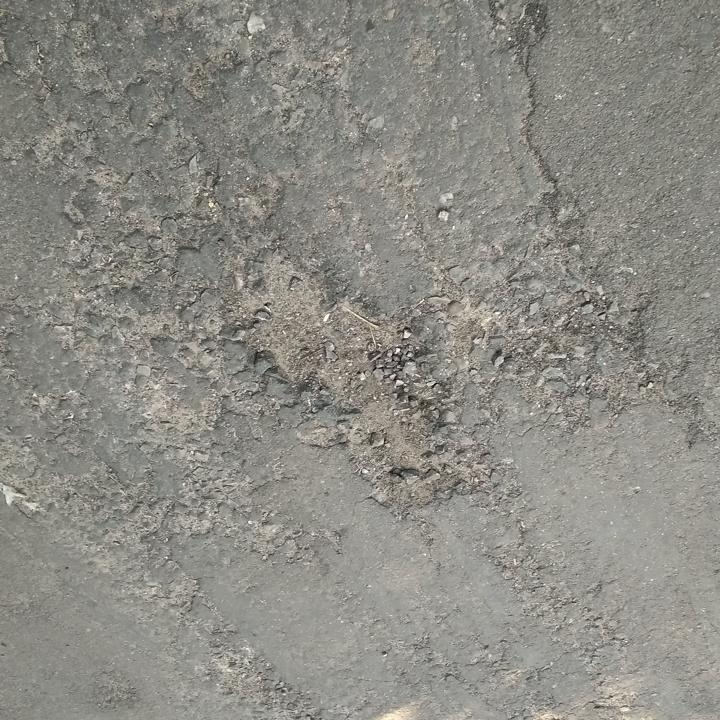pothole: (227, 256, 503, 524)
